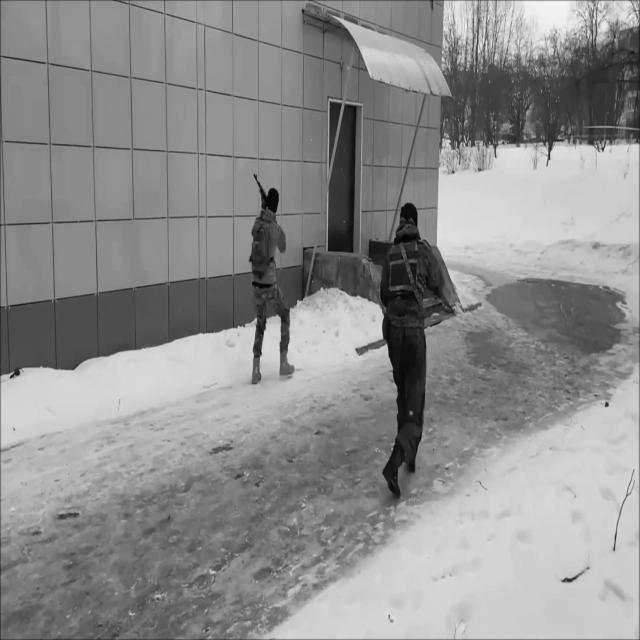gun: (253, 170, 270, 212)
person: (380, 202, 444, 499)
person with a gun: (251, 170, 295, 386)
